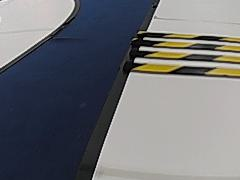bump: (130, 27, 238, 84)
